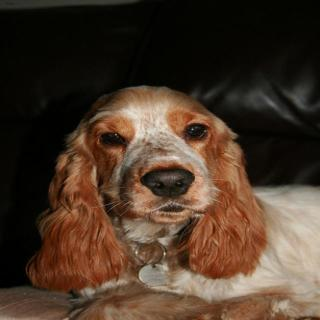dog: (30, 84, 276, 293)
nose: (137, 165, 194, 201)
